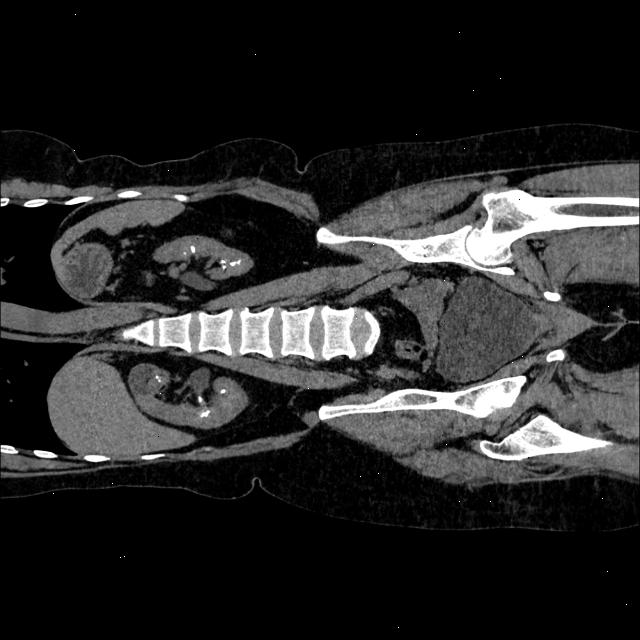kidneystone: (199, 410, 211, 418), (190, 244, 196, 252), (219, 388, 226, 394), (230, 260, 240, 264), (156, 375, 162, 381), (219, 259, 225, 264), (198, 396, 202, 402), (222, 265, 225, 270), (181, 251, 184, 253)
